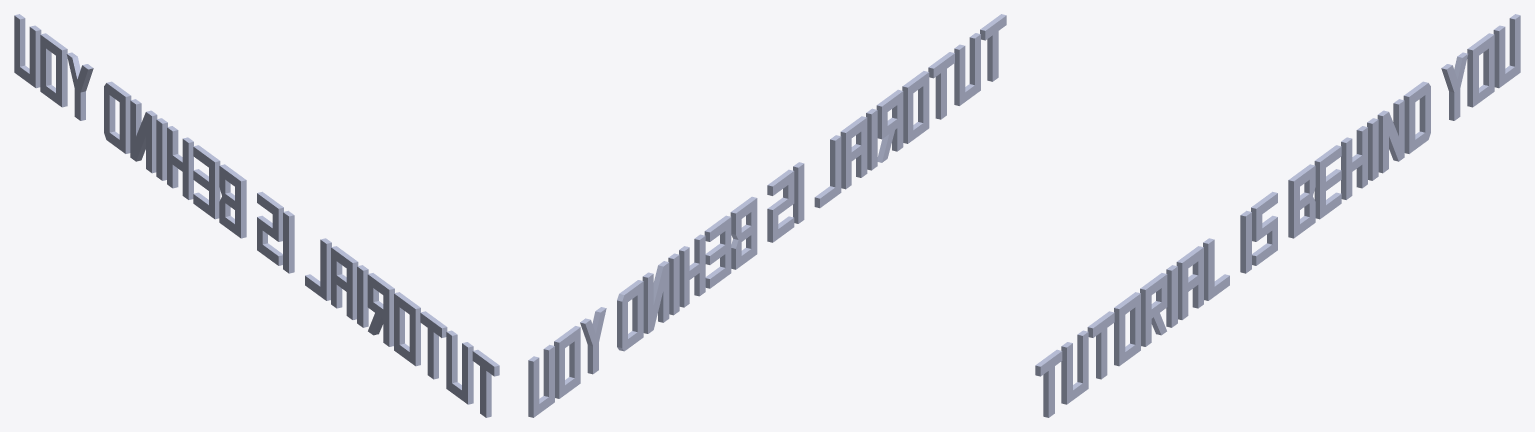
The model's file is Tutorial_Behind.FBX.
The picture shows the model from 3 angles, left to right: view 1: azimuth 30°, elevation 25°; view 2: azimuth 150°, elevation 25°; view 3: azimuth 330°, elevation 25°; orthographic projection.
Parts seen in each view (by area): view 1: Boss-Extrude1[11], Boss-Extrude1[18], Boss-Extrude1[16], Boss-Extrude1[4], Boss-Extrude1[15], Boss-Extrude1[2], Boss-Extrude1[19], Boss-Extrude1[7], Boss-Extrude1[13], Boss-Extrude1[5], Boss-Extrude1[12], Boss-Extrude1[10] (+7 smaller); view 2: Boss-Extrude1[11], Boss-Extrude1[15], Boss-Extrude1[5], Boss-Extrude1[4], Boss-Extrude1[7], Boss-Extrude1[16], Boss-Extrude1[19], Boss-Extrude1[2], Boss-Extrude1[18], Boss-Extrude1[13], Boss-Extrude1[10], Boss-Extrude1[12] (+7 smaller); view 3: Boss-Extrude1[11], Boss-Extrude1[18], Boss-Extrude1[16], Boss-Extrude1[4], Boss-Extrude1[15], Boss-Extrude1[2], Boss-Extrude1[19], Boss-Extrude1[7], Boss-Extrude1[13], Boss-Extrude1[5], Boss-Extrude1[12], Boss-Extrude1[10] (+7 smaller).
Part boxes in pixels (box(x1,y1,x2,y2)): Boss-Extrude1[11]: box(219, 164, 246, 238); Boss-Extrude1[18]: box(40, 33, 67, 107); Boss-Extrude1[16]: box(104, 81, 131, 153); Boss-Extrude1[4]: box(394, 292, 420, 366); Boss-Extrude1[15]: box(130, 99, 157, 173); Boss-Extrude1[2]: box(446, 330, 473, 404); Boss-Extrude1[19]: box(14, 14, 41, 88); Boss-Extrude1[7]: box(331, 246, 358, 319); Boss-Extrude1[13]: box(167, 126, 193, 199); Boss-Extrude1[5]: box(367, 273, 394, 346); Boss-Extrude1[12]: box(193, 145, 220, 219); Boss-Extrude1[10]: box(257, 191, 283, 265); Boss-Extrude1[11]: box(730, 196, 757, 269); Boss-Extrude1[15]: box(642, 261, 669, 333); Boss-Extrude1[5]: box(876, 89, 903, 162); Boss-Extrude1[4]: box(902, 71, 929, 143); Boss-Extrude1[7]: box(840, 116, 867, 189); Boss-Extrude1[16]: box(617, 280, 643, 351); Boss-Extrude1[19]: box(528, 344, 554, 417); Boss-Extrude1[2]: box(954, 33, 980, 105); Boss-Extrude1[18]: box(554, 326, 580, 398); Boss-Extrude1[13]: box(679, 234, 705, 307); Boss-Extrude1[10]: box(767, 169, 794, 242); Boss-Extrude1[12]: box(704, 215, 731, 288); Boss-Extrude1[11]: box(1288, 164, 1315, 238); Boss-Extrude1[18]: box(1467, 33, 1494, 107); Boss-Extrude1[16]: box(1403, 81, 1430, 153); Boss-Extrude1[4]: box(1114, 292, 1140, 366); Boss-Extrude1[15]: box(1377, 99, 1404, 173); Boss-Extrude1[2]: box(1061, 330, 1088, 404); Boss-Extrude1[19]: box(1493, 14, 1520, 88); Boss-Extrude1[7]: box(1176, 246, 1203, 319); Boss-Extrude1[13]: box(1341, 126, 1367, 199); Boss-Extrude1[5]: box(1140, 273, 1167, 346); Boss-Extrude1[12]: box(1314, 145, 1341, 219); Boss-Extrude1[10]: box(1251, 191, 1277, 265).
Size of the model in its own units: 0.1 by 1 by 15.22.
